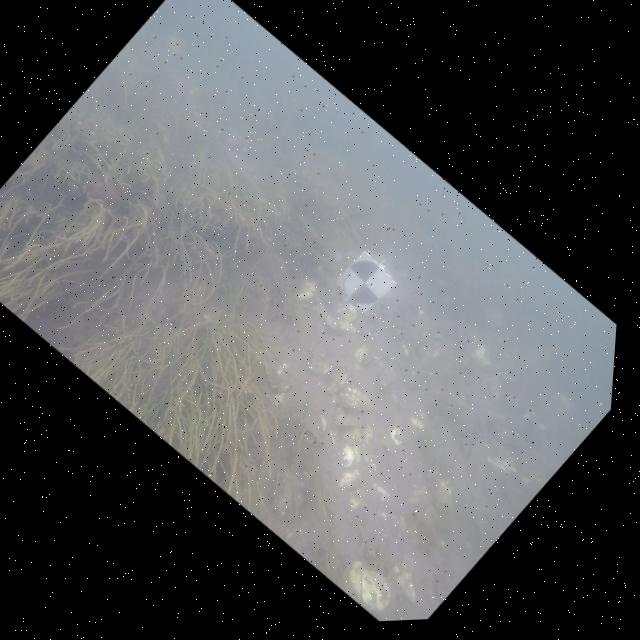Oyster-Closed: (349, 561, 390, 612), (337, 386, 371, 414), (326, 366, 349, 394), (273, 362, 289, 391), (309, 358, 330, 375)
Oyster-Indeterminate: (295, 277, 318, 305), (380, 427, 402, 454), (333, 303, 356, 322), (333, 408, 356, 426), (307, 415, 326, 435), (345, 491, 364, 511), (338, 469, 359, 487), (353, 342, 371, 363), (341, 426, 360, 444), (341, 445, 354, 467), (271, 392, 286, 405)
Oyster-Open: (322, 310, 356, 337), (363, 355, 375, 367)
